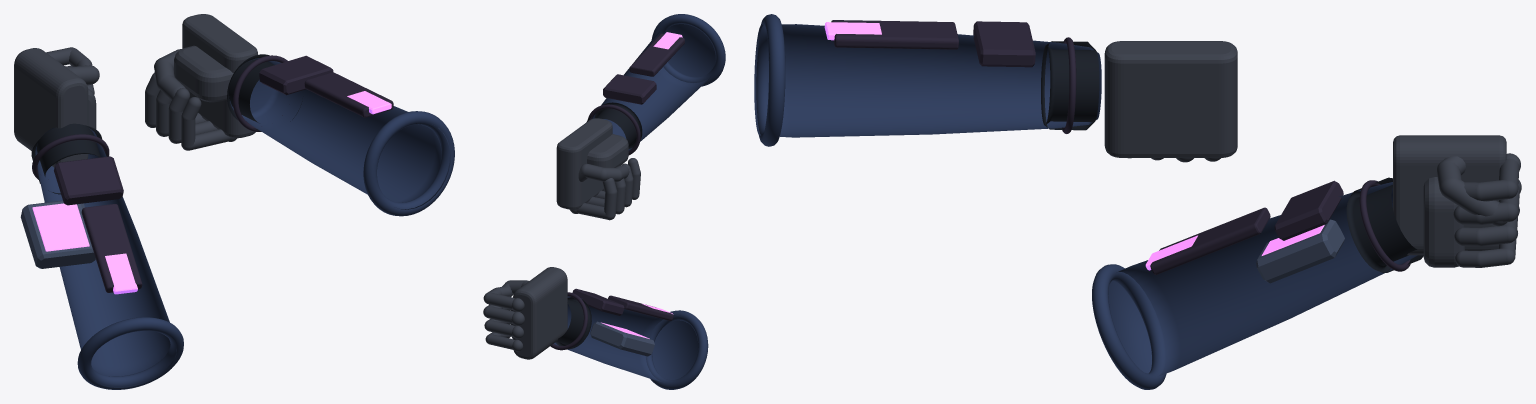
Rendered from hands_specter_tool.glb.
3 renders of one model, left to right at view 1: azimuth 30°, elevation 25°; view 2: azimuth 150°, elevation 25°; view 3: azimuth 270°, elevation 25°, orthographic. The views are drawn at different scales.
Visible parts, largest first — view 1: hand_r_forearm, hand_l_forearm, hand_l_palm, hand_r_sleeve_roll, hand_r_palm, hand_l_sleeve_roll, hand_l_cuff_plate, hand_l_forearm_plate, hand_r_heel, hand_l_screen, hand_l_scanner, hand_l_cuff (+14 smaller); view 2: hand_l_forearm, hand_r_forearm, hand_l_palm, hand_r_palm, hand_l_sleeve_roll, hand_r_sleeve_roll, hand_r_cuff_plate, hand_l_scanner, hand_r_forearm_plate, hand_r_heel, hand_l_cuff, hand_r_cuff (+15 smaller); view 3: hand_r_forearm, hand_l_forearm, hand_r_palm, hand_l_palm, hand_l_sleeve_roll, hand_r_cuff, hand_r_sleeve_roll, hand_l_cuff, hand_r_forearm_plate, hand_l_scanner, hand_l_heel, hand_r_cuff_plate (+10 smaller).
Boxes of the visible parts, bbox=[...] form: hand_r_forearm: bbox=[230, 58, 450, 209]; hand_l_forearm: bbox=[35, 128, 176, 387]; hand_l_palm: bbox=[14, 48, 88, 167]; hand_r_sleeve_roll: bbox=[363, 111, 454, 216]; hand_r_palm: bbox=[182, 14, 257, 138]; hand_l_sleeve_roll: bbox=[77, 317, 183, 389]; hand_l_cuff_plate: bbox=[54, 156, 123, 205]; hand_l_forearm_plate: bbox=[81, 204, 142, 292]; hand_r_heel: bbox=[174, 45, 233, 102]; hand_l_screen: bbox=[32, 203, 89, 251]; hand_l_scanner: bbox=[20, 200, 95, 268]; hand_l_cuff: bbox=[31, 123, 107, 194]; hand_l_forearm: bbox=[554, 296, 698, 382]; hand_r_forearm: bbox=[592, 24, 715, 150]; hand_l_palm: bbox=[513, 267, 567, 359]; hand_r_palm: bbox=[556, 118, 612, 209]; hand_l_sleeve_roll: bbox=[645, 310, 708, 389]; hand_r_sleeve_roll: bbox=[651, 14, 725, 86]; hand_r_cuff_plate: bbox=[603, 74, 656, 104]; hand_l_scanner: bbox=[590, 321, 654, 356]; hand_r_forearm_plate: bbox=[629, 33, 684, 76]; hand_r_heel: bbox=[587, 134, 628, 167]; hand_l_cuff: bbox=[551, 297, 591, 349]; hand_r_cuff: bbox=[586, 102, 642, 153]; hand_r_forearm: bbox=[754, 24, 1101, 137]; hand_l_forearm: bbox=[1108, 182, 1417, 375]; hand_r_palm: bbox=[1104, 41, 1237, 157]; hand_l_palm: bbox=[1393, 135, 1506, 255]; hand_l_sleeve_roll: bbox=[1092, 264, 1166, 389]; hand_r_cuff: bbox=[1041, 41, 1099, 130]; hand_r_sleeve_roll: bbox=[756, 14, 785, 146]; hand_l_cuff: bbox=[1346, 177, 1423, 272]; hand_r_forearm_plate: bbox=[831, 20, 958, 49]; hand_l_scanner: bbox=[1256, 219, 1344, 283]; hand_l_heel: bbox=[1423, 177, 1464, 267]; hand_r_cuff_plate: bbox=[973, 21, 1035, 67].
Size of the model in its own units: 0.2264 by 0.3488 by 0.5539.
